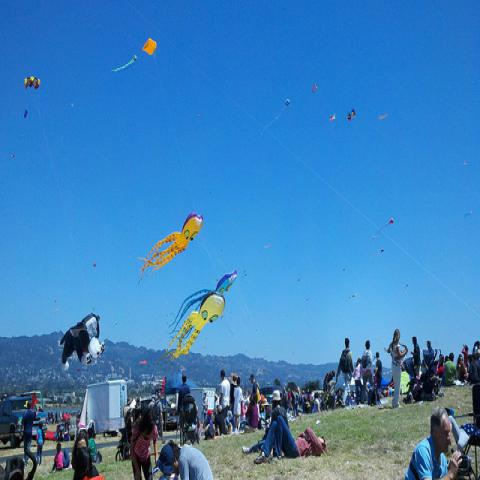car: (1, 394, 48, 450), (166, 399, 176, 429)
